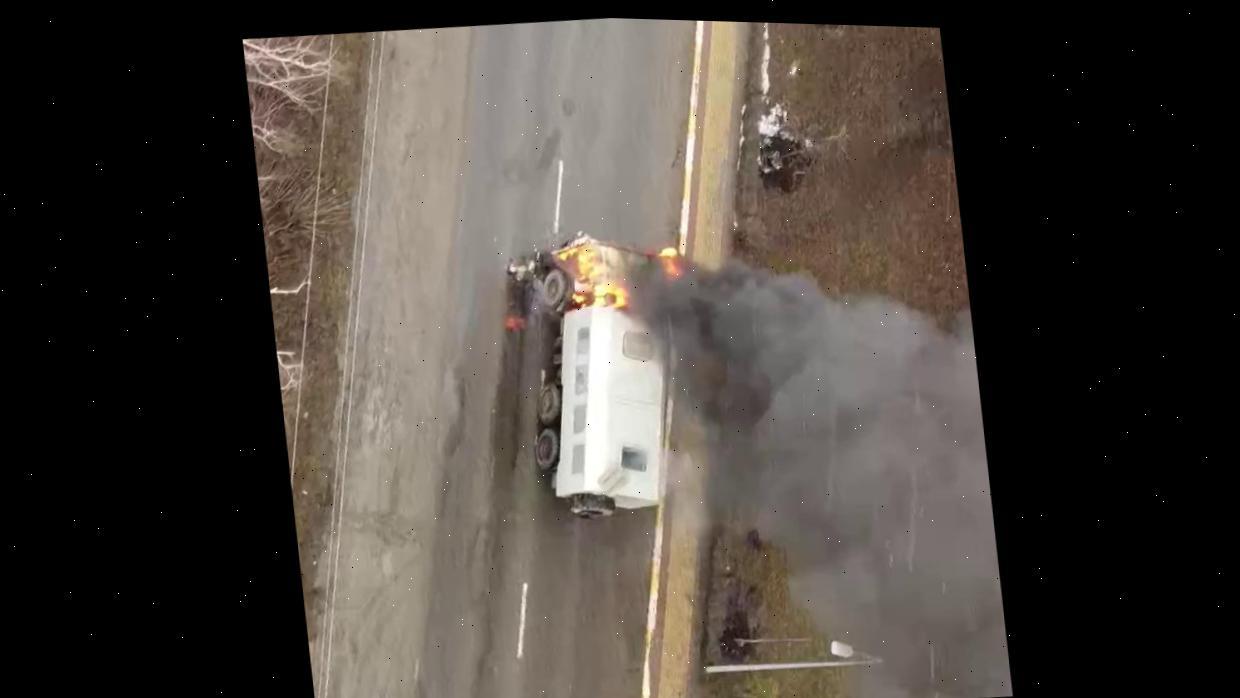truck: (512, 230, 697, 524)
